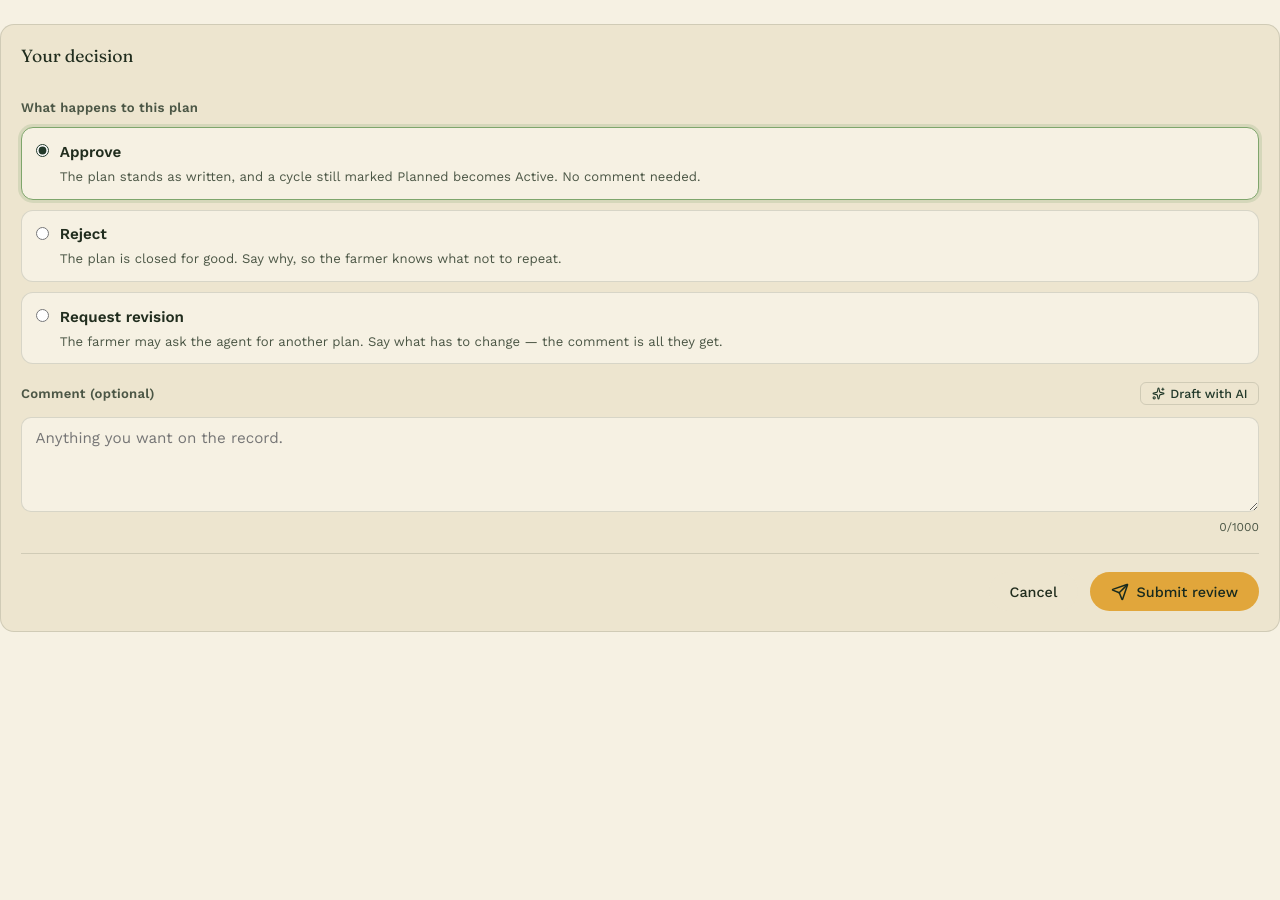
Test case: PlanReviewForm › switching decision clears a stale comment warning
Step 1. Click the radio button labelled "Reject" → [43, 233], box left=36, top=227, right=49, bottom=240
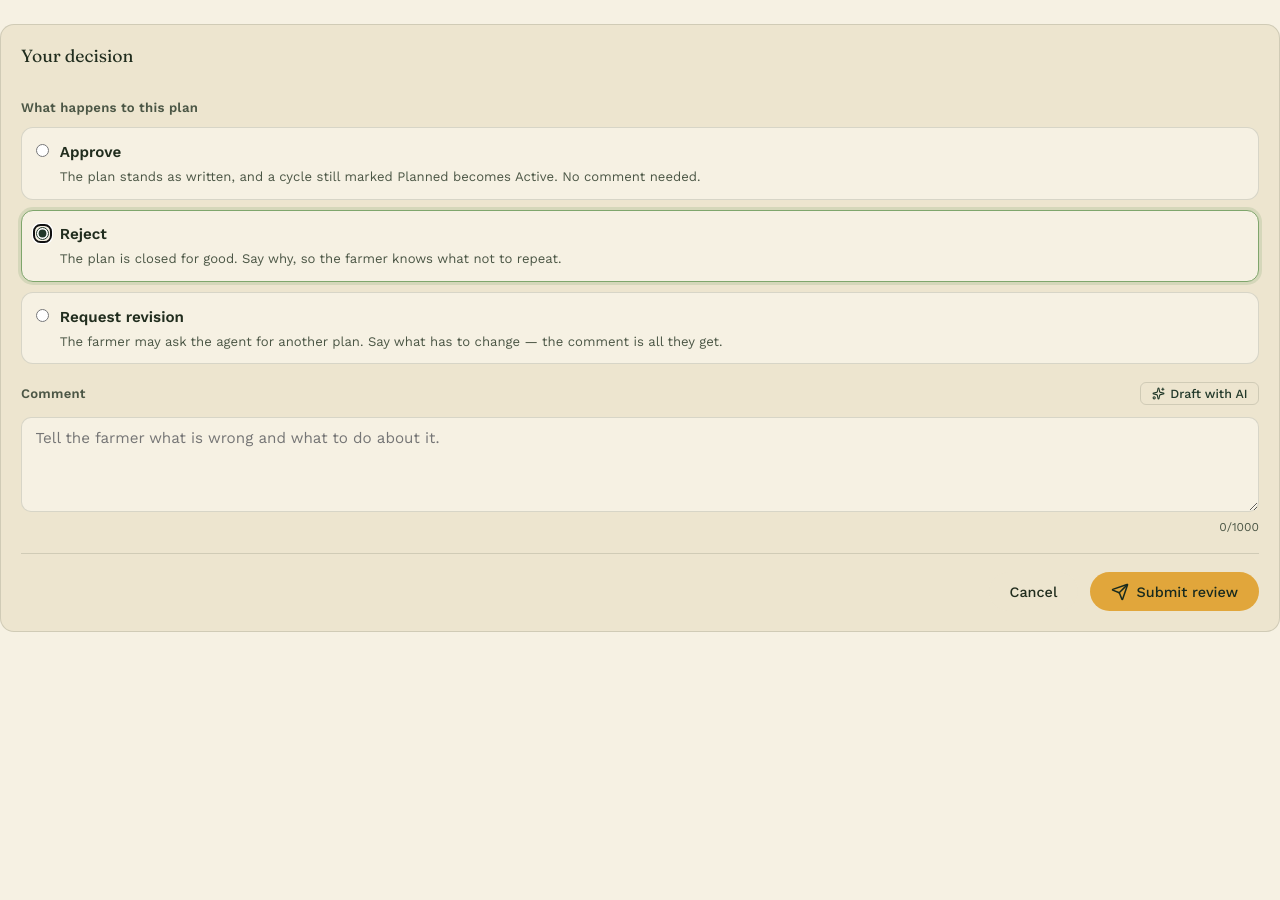
Step 2. Click the button "Submit review" → [1175, 592], box left=1090, top=572, right=1259, bottom=611
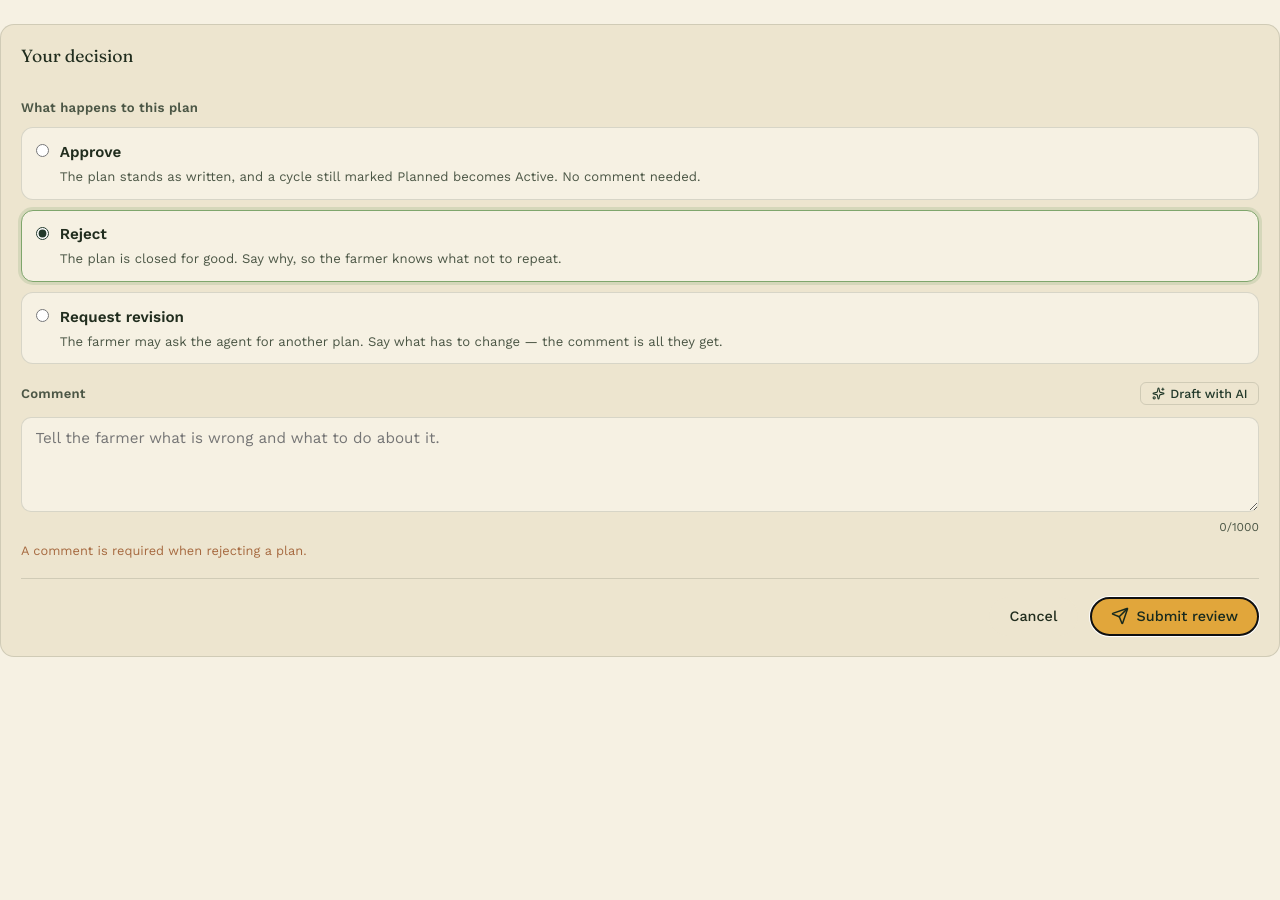
Expected: the text "A comment is required when rejecting a plan." is shown, left=21, top=543, right=306, bottom=558
Step 3. Click the radio button labelled "Approve" → [43, 151], box left=36, top=144, right=49, bottom=157
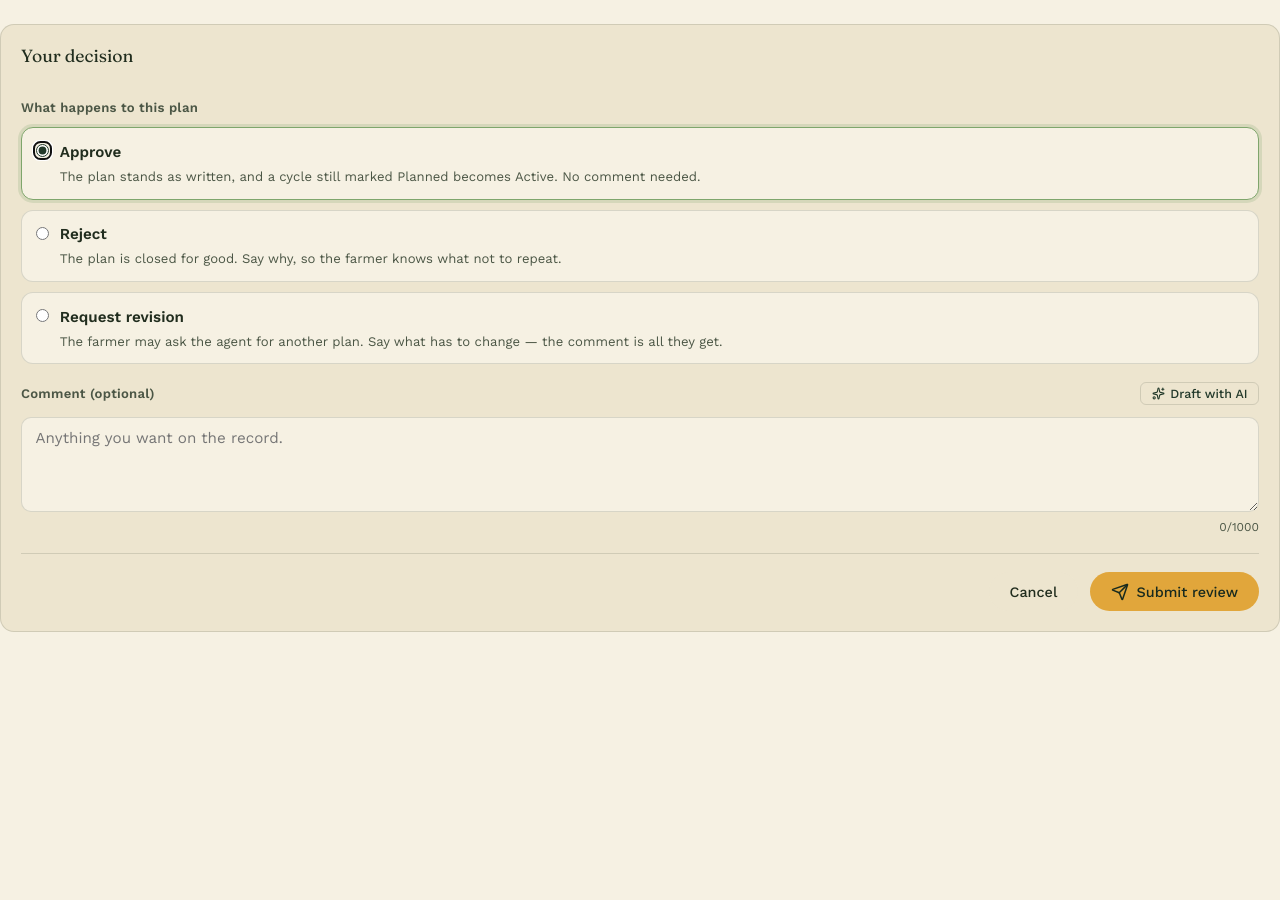
Expected: the text "A comment is required when rejecting a plan." is gone
